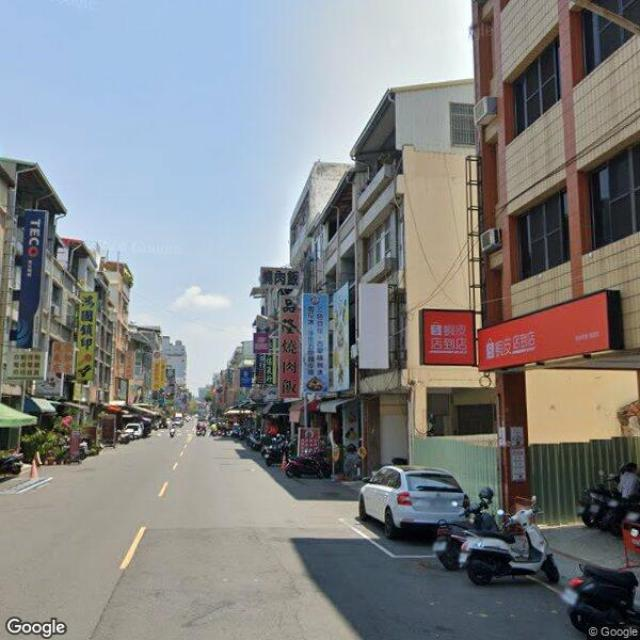Legalparking: (338, 453, 640, 640)
